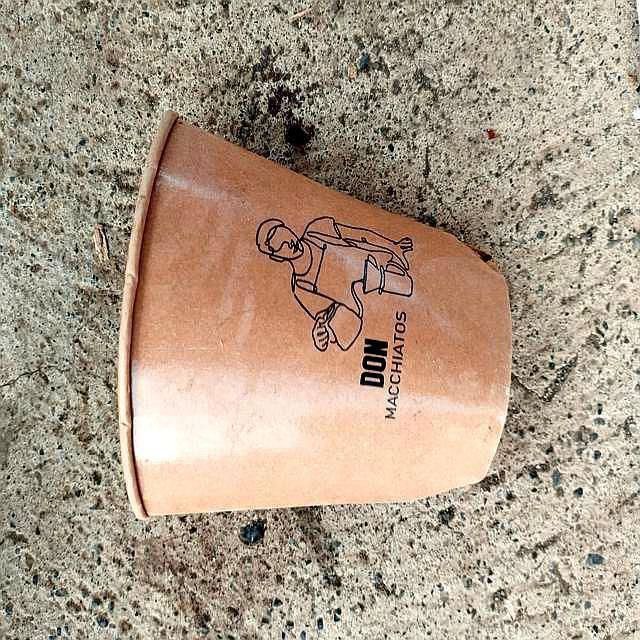Biodegradable: (113, 109, 515, 525)
